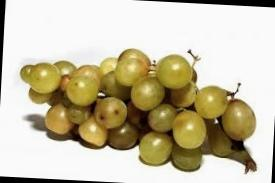Grape Rotten: (14, 39, 262, 176)
